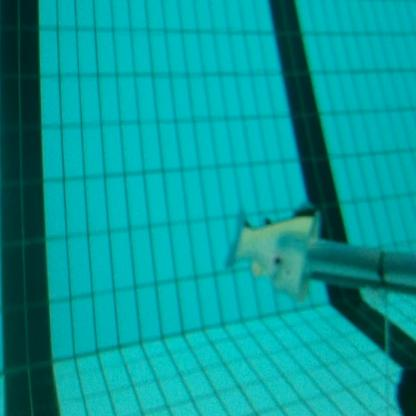tail: (224, 201, 323, 306)
